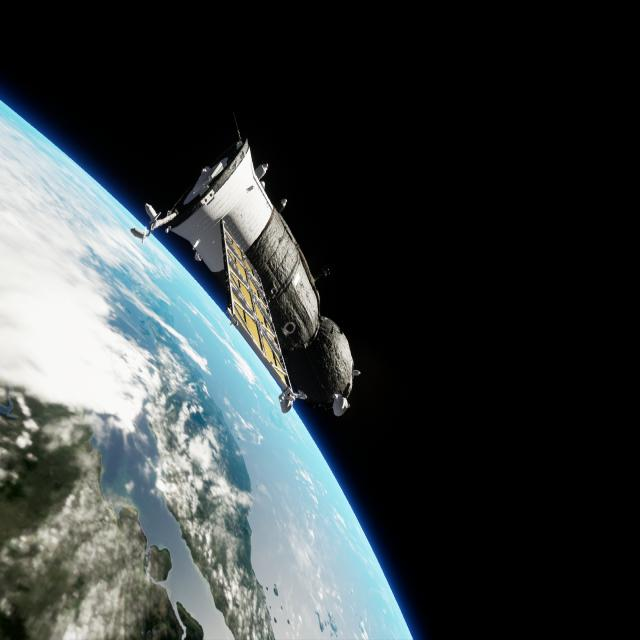Satellites revolving around earth: (1, 99, 415, 638), (129, 111, 361, 420)
